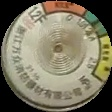green: (83, 13, 107, 37)
needle: (86, 27, 104, 40)
red: (43, 1, 88, 17)
yellow: (94, 34, 110, 83)
